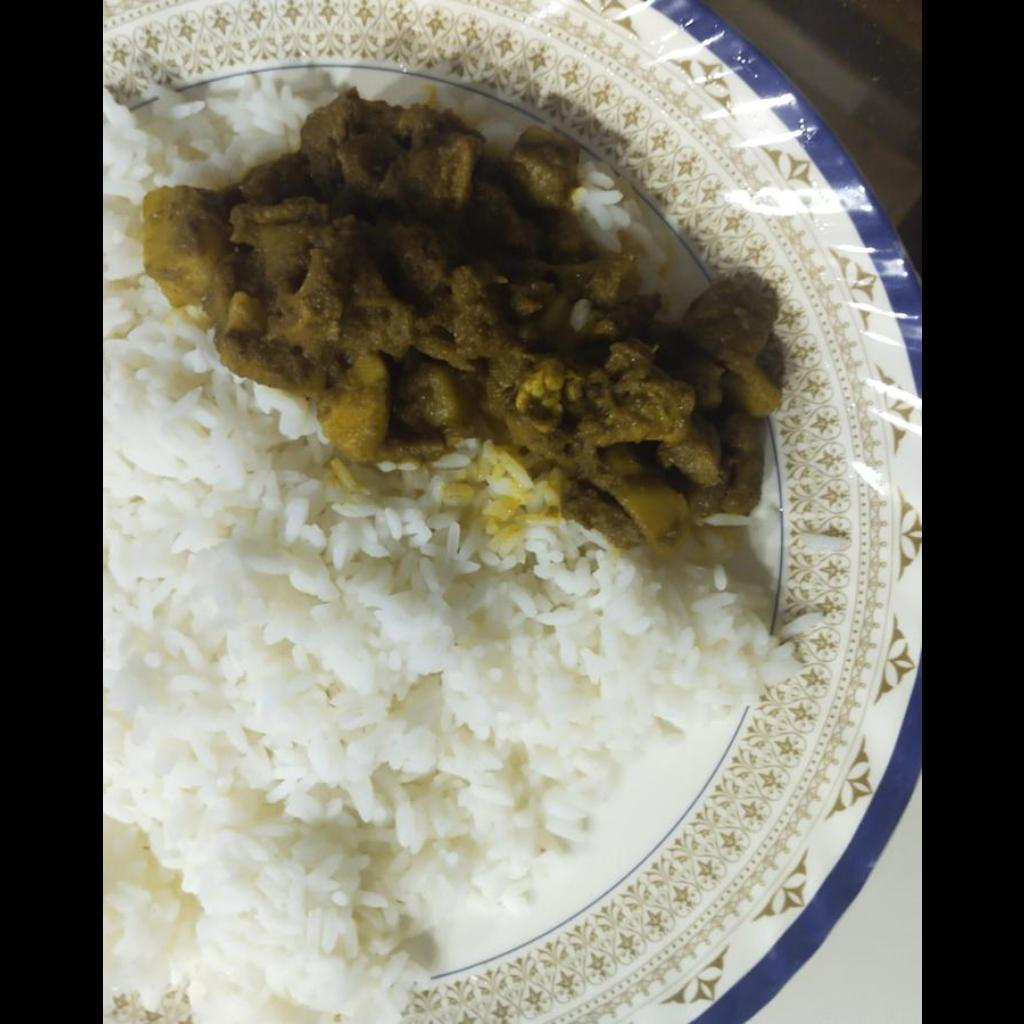beef: (145, 85, 779, 533)
rice: (102, 80, 804, 1011)
